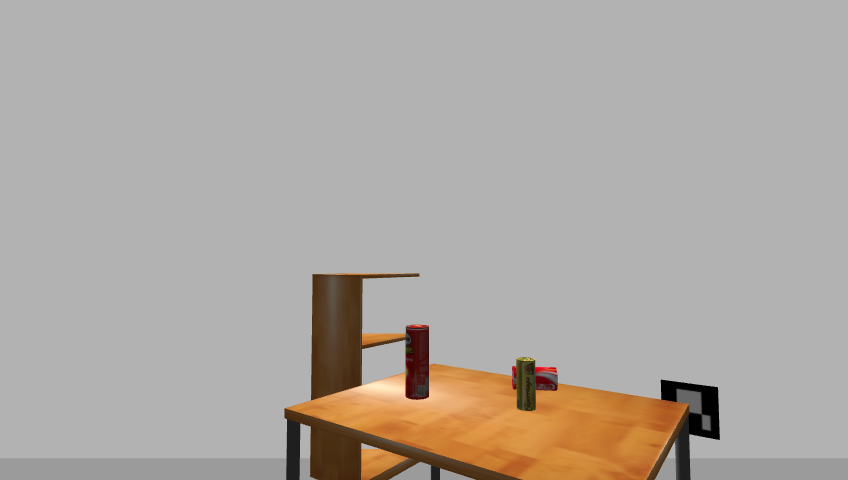aruco marker: (657, 377, 726, 442)
biscuits pack: (515, 358, 537, 412)
bookshelf: (301, 270, 424, 479)
coke can: (508, 366, 560, 393)
dinner table: (278, 364, 700, 480)
pringles can: (403, 324, 431, 402)
